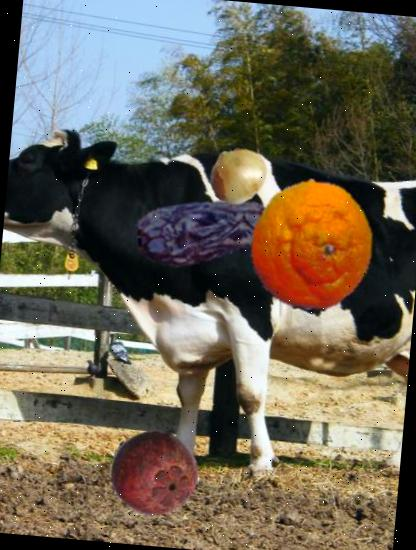Dates: (132, 161, 275, 304)
Mandarine: (240, 174, 384, 316)
Mangostan: (106, 424, 204, 522)
Onion: (204, 142, 270, 208)
